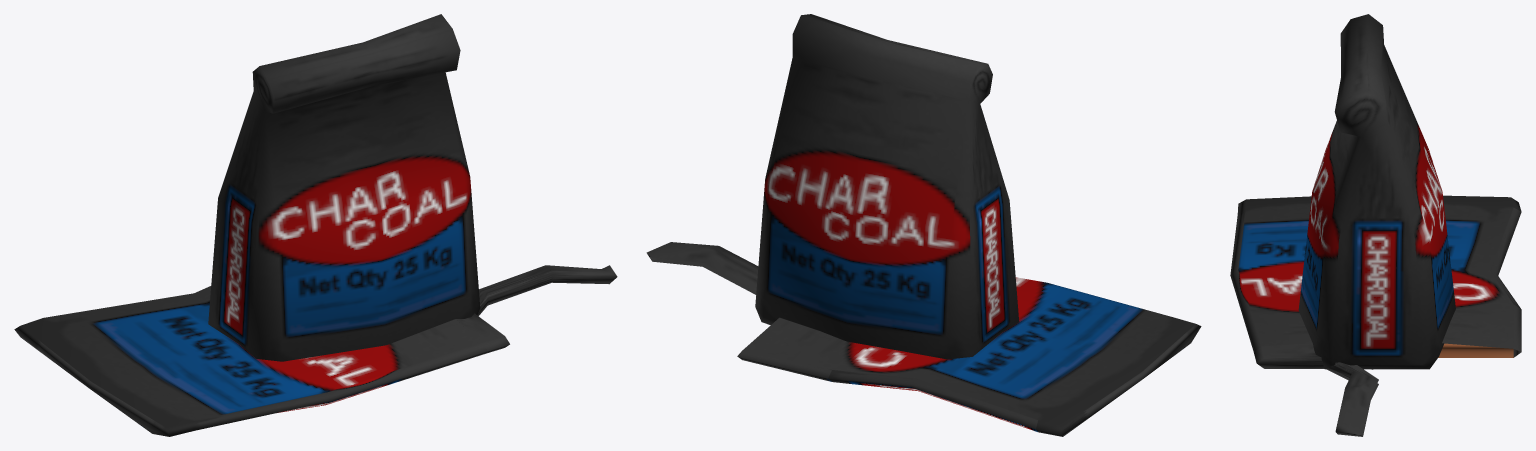
Rendered from BagOfCharcoalEmpty.fbx.
The picture shows the model from 3 angles, left to right: view 1: azimuth 30°, elevation 25°; view 2: azimuth 150°, elevation 25°; view 3: azimuth 270°, elevation 25°; orthographic projection. The views are drawn at different scales.
Visible parts, largest first — view 1: BagofConcretePowder, BagOfPlasterPowder; view 2: BagofConcretePowder, BagOfPlasterPowder; view 3: BagofConcretePowder, BagOfPlasterPowder.
Part boxes in pixels (left/top/right/bottom): BagofConcretePowder: left=208, top=14, right=480, bottom=361; BagOfPlasterPowder: left=14, top=265, right=617, bottom=436; BagofConcretePowder: left=755, top=14, right=1019, bottom=359; BagOfPlasterPowder: left=646, top=242, right=1201, bottom=436; BagofConcretePowder: left=1298, top=14, right=1455, bottom=369; BagOfPlasterPowder: left=1230, top=195, right=1521, bottom=436.
Size of the model in its own units: 217 by 118 by 114.
